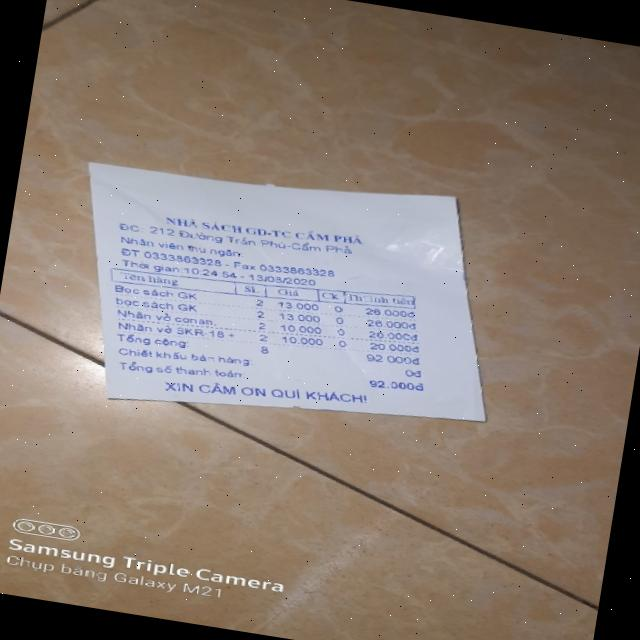Date: (246, 270, 323, 292)
Store_Name: (160, 203, 366, 254)
amount_number: (366, 376, 416, 394)
label_total: (117, 352, 248, 390)
